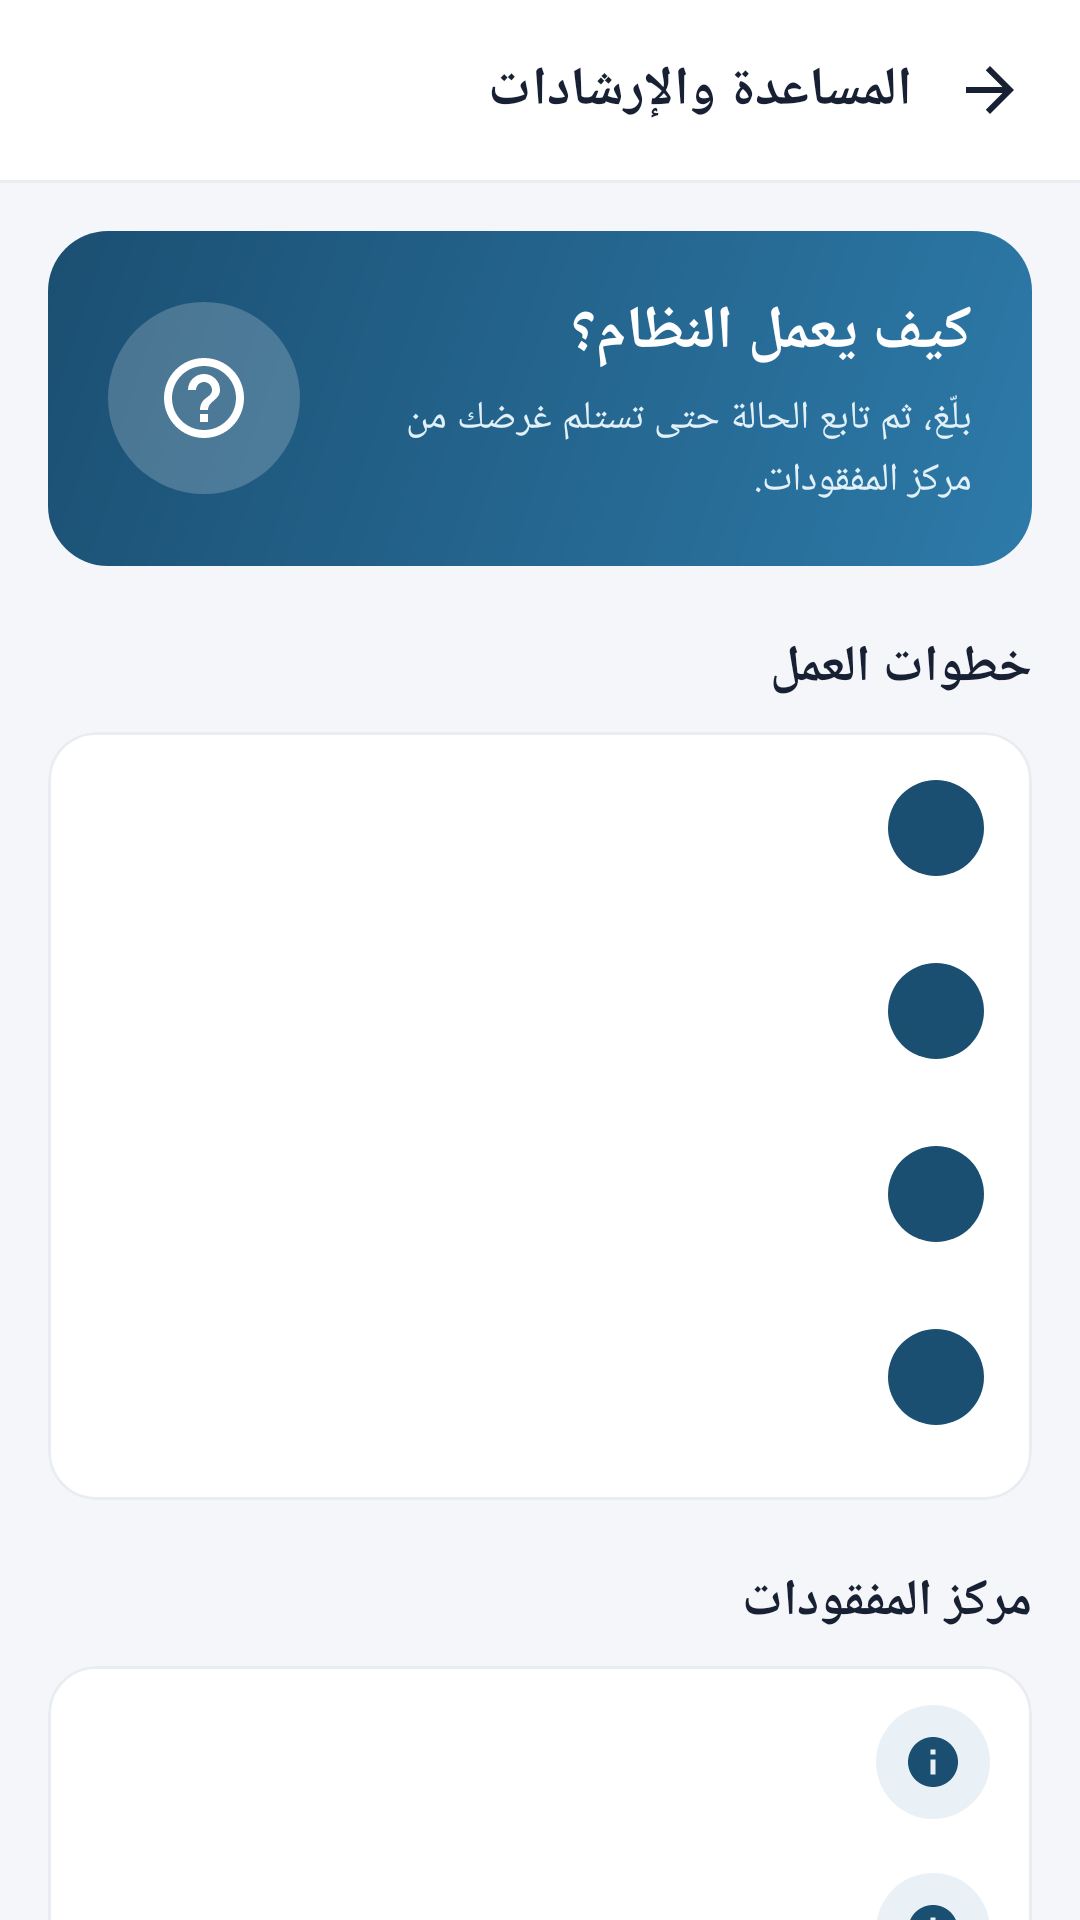

Icon bounding boxes for this 1080×1920 phone screenshot, format (x1, y1, x2, y2):
help: (108, 302, 300, 494)
رجوع: (966, 66, 1014, 114)
